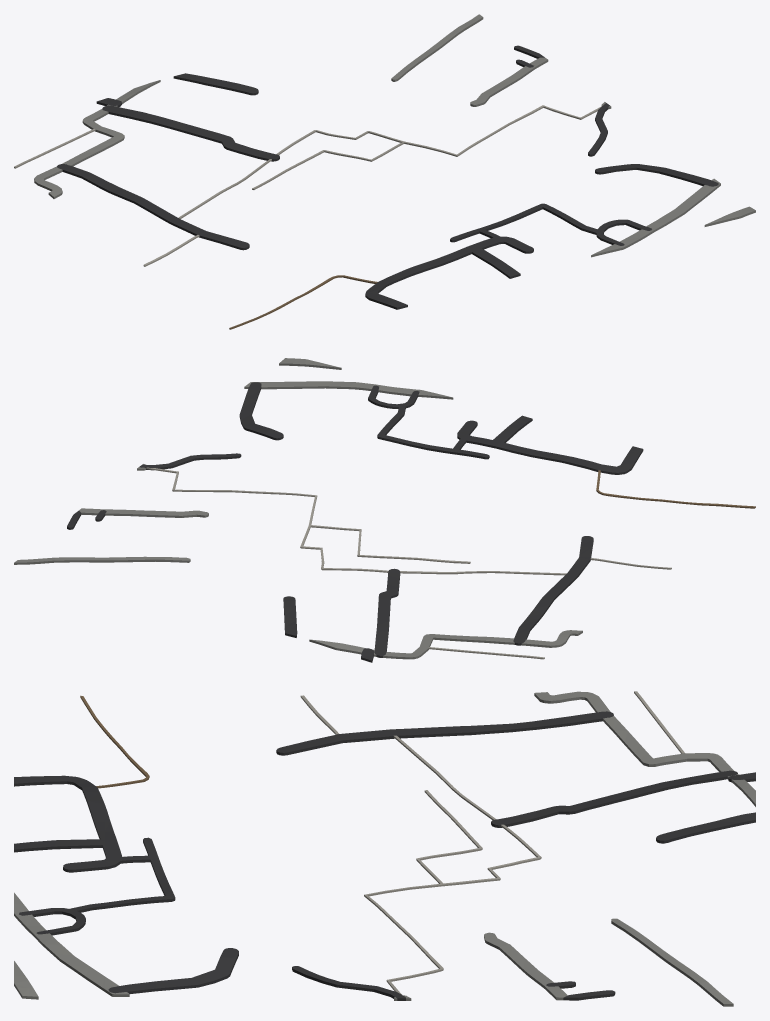
3 renders of one model, top to bottom at view 1: azimuth 30°, elevation 25°; view 2: azimuth 150°, elevation 25°; view 3: azimuth 270°, elevation 25°, orthographic. The views are drawn at different scales.
Bounding box in the file's own units: 293 × 9.36 × 291.
